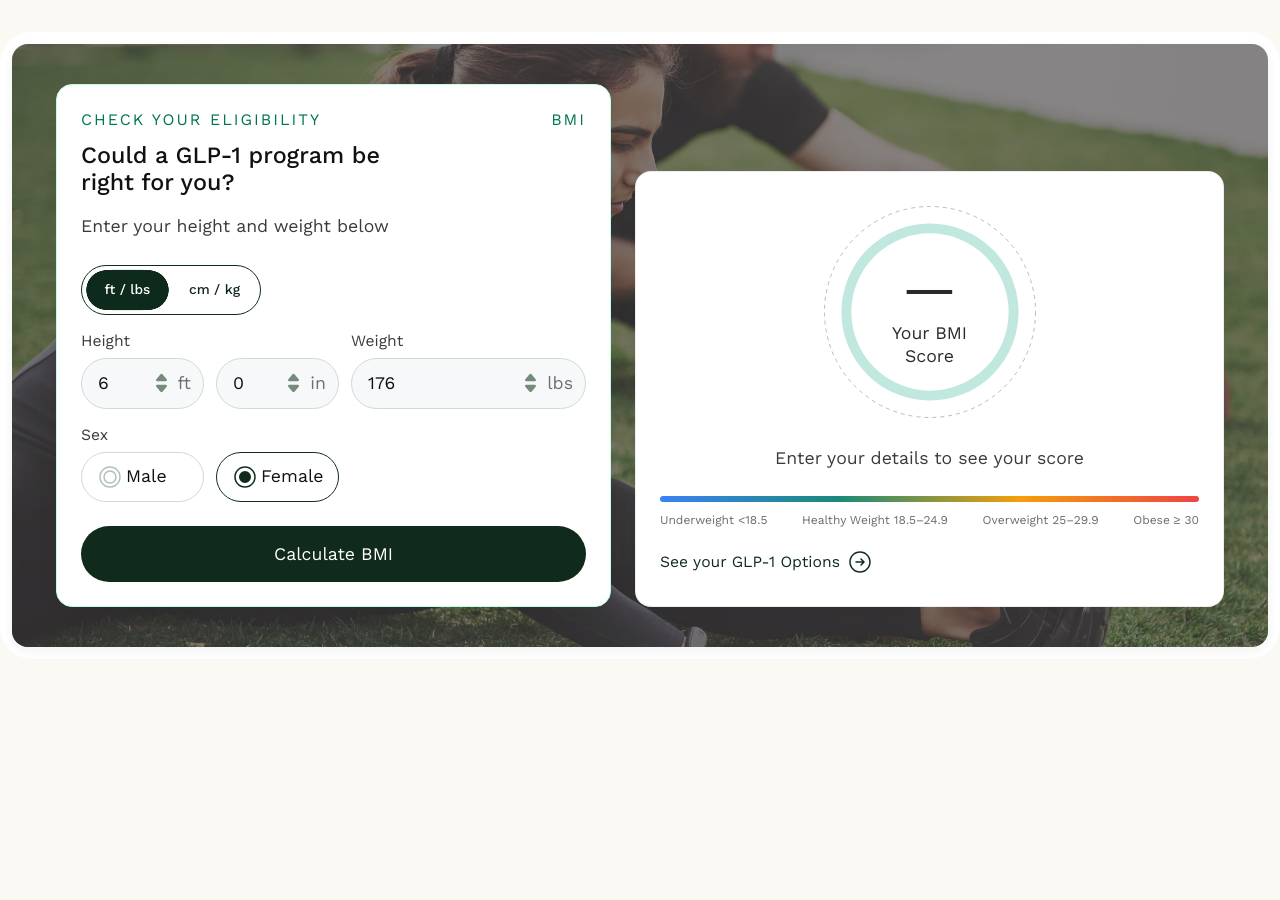
Test: BmiCalculator › converts typed values when switching units
The width and height of the screenshot is (1280, 900).
Click the text "cm / kg". click: coordinates (215, 290)
box: [189, 279, 240, 301]
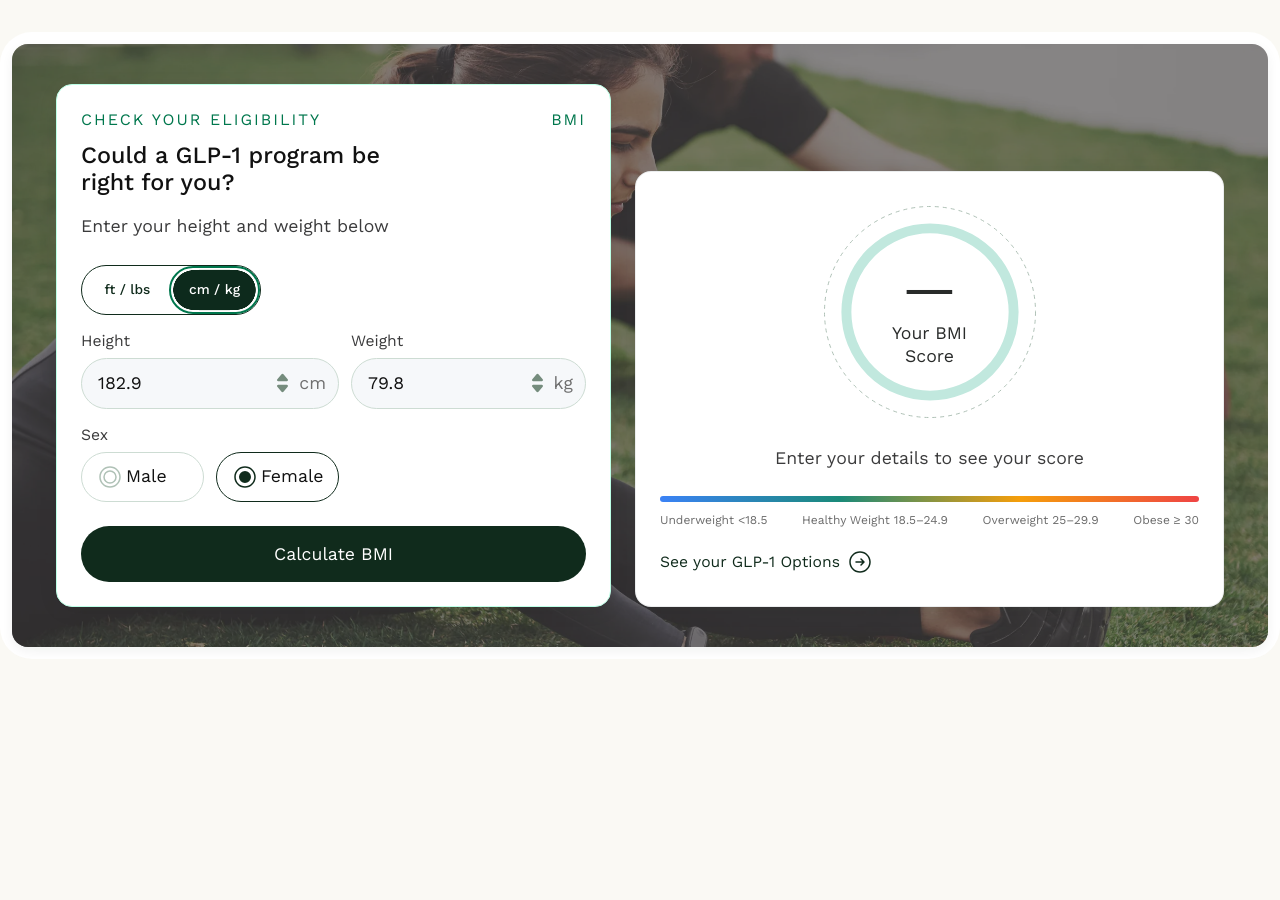
expect the number field named "Height, centimetres" holds "182.9": met, box [98, 372, 267, 395]
expect the number field named "Weight, kilograms" holds "79.8": met, box [368, 372, 522, 395]
